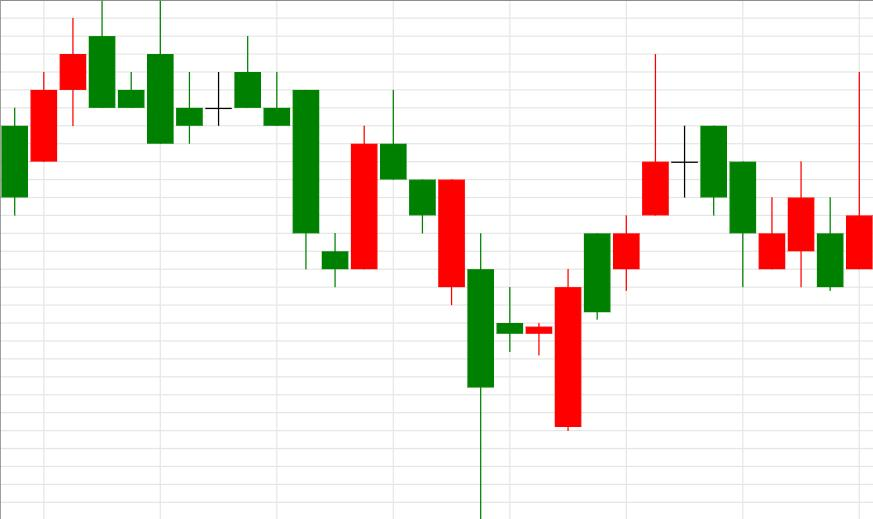morning_star_rise: (88, 1, 378, 288)
shooting_star_fall: (525, 55, 670, 432)
